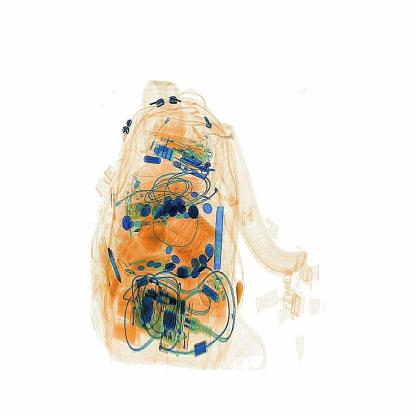pliers: (212, 194, 237, 267)
